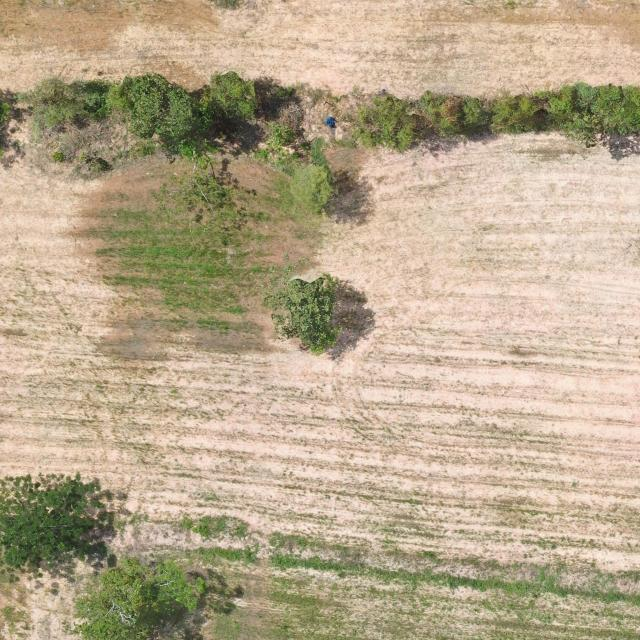tree: (71, 557, 207, 640), (0, 471, 105, 576), (153, 157, 243, 232), (262, 272, 339, 356), (112, 71, 196, 142), (560, 80, 640, 149), (351, 91, 417, 153), (198, 70, 258, 132), (418, 89, 490, 137), (288, 162, 333, 214), (488, 90, 540, 134)
